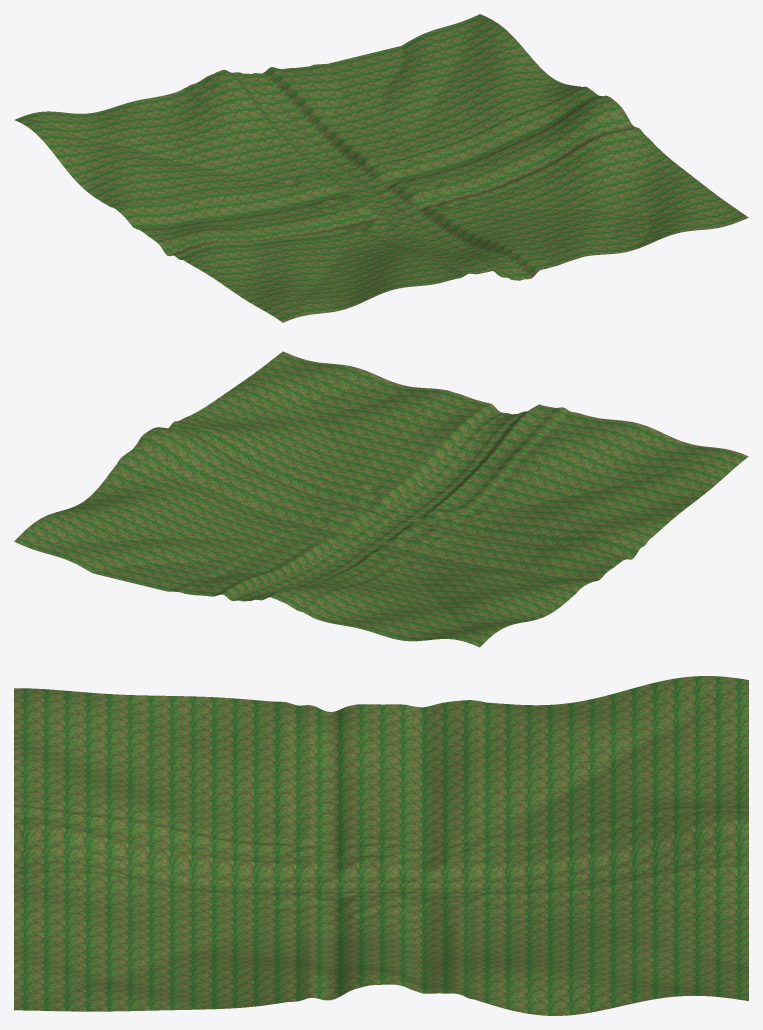
File: terrain_ravine.glb
3 views of the same model, one above another, from view 1: azimuth 30°, elevation 25°; view 2: azimuth 150°, elevation 25°; view 3: azimuth 270°, elevation 25° (orthographic). The views are drawn at different scales.
Parts seen in each view (by area): view 1: terrain_hills; view 2: terrain_hills; view 3: terrain_hills.
Boxes of the visible parts, x1=… form: terrain_hills: x1=14, y1=14, x2=748, y2=322; terrain_hills: x1=14, y1=351, x2=748, y2=647; terrain_hills: x1=14, y1=676, x2=748, y2=1015.
Bounding box in the file's own units: 280 × 25.77 × 280.
1 material, 1 textured.
